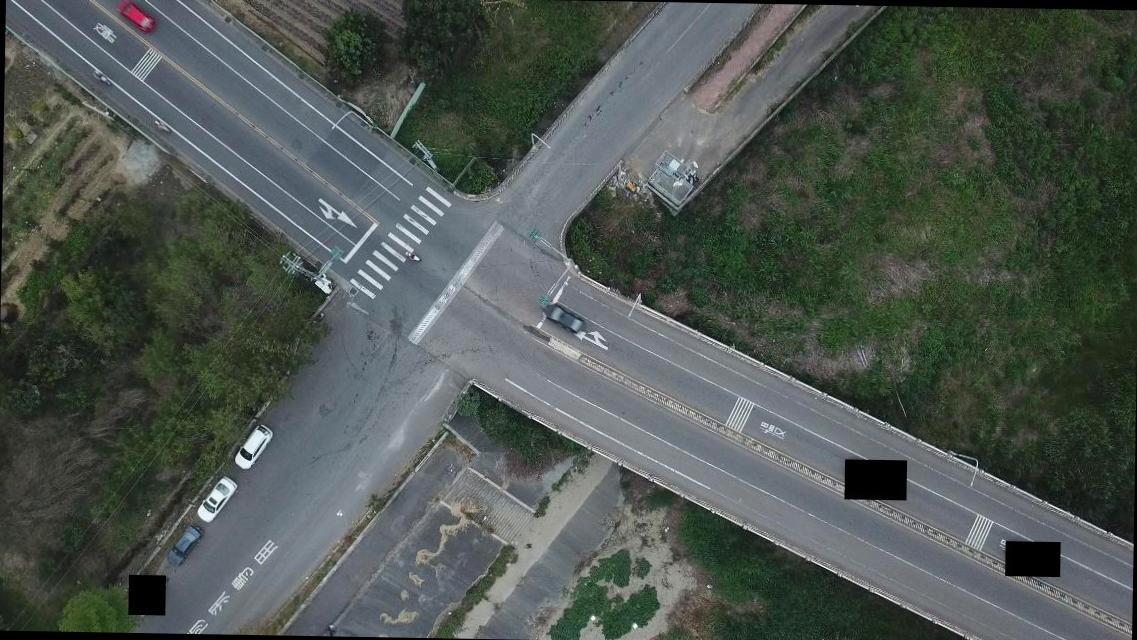vehicle: (232, 422, 272, 470), (198, 474, 236, 522), (166, 525, 204, 566), (116, 0, 157, 34), (542, 302, 582, 334)
